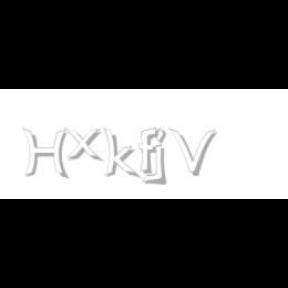H: (22, 128, 68, 180)
V: (169, 128, 217, 176)
f: (139, 128, 163, 174)
j: (152, 128, 180, 186)
k: (103, 128, 141, 180)
x: (64, 128, 106, 162)
